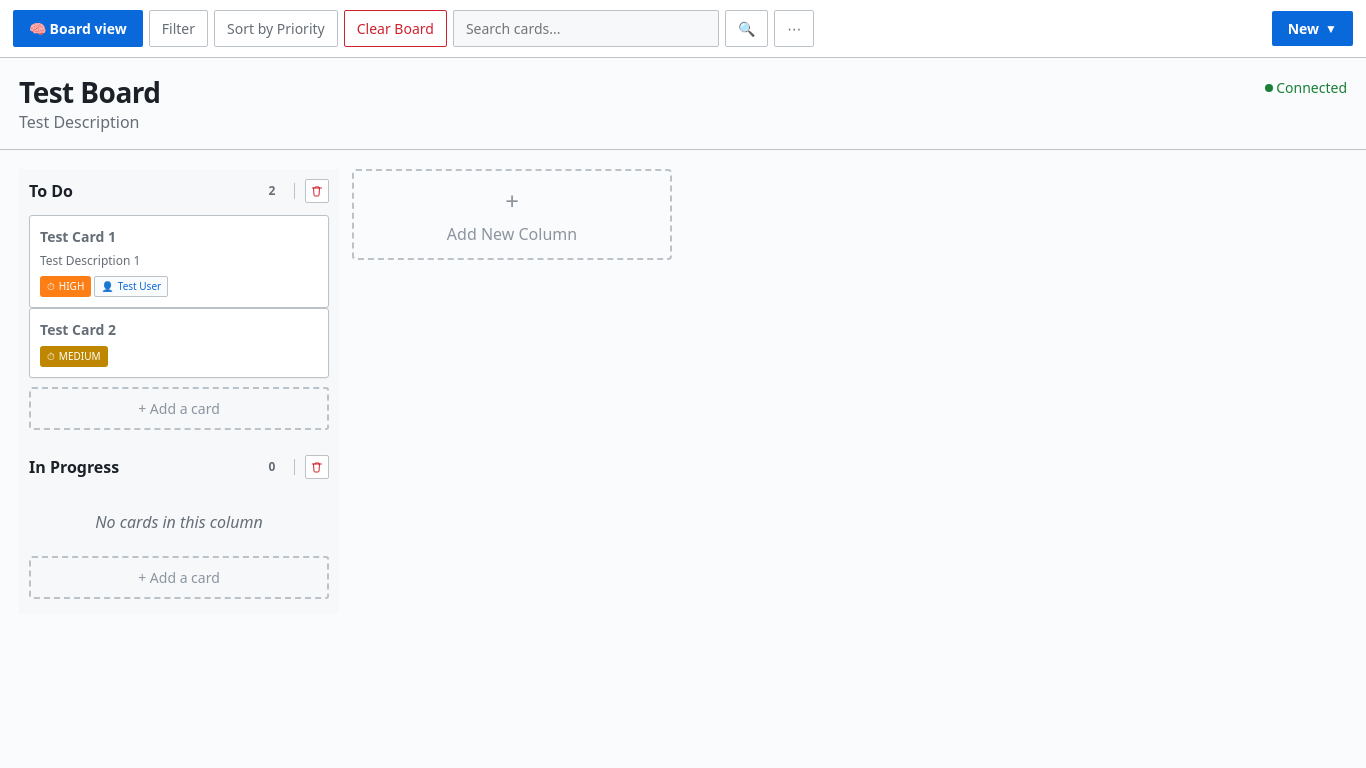
Test case: Board Component › Filtering and Sorting Integration › should filter cards by search query
The width and height of the screenshot is (1366, 768).
Expected: the heading "Test Board" is shown, [19,77,160,108]
// Search for "Test Card 1"
Type "Test Card 1" into the field with placeholder "Search cards..." at (586, 28), box [453,10,719,47]
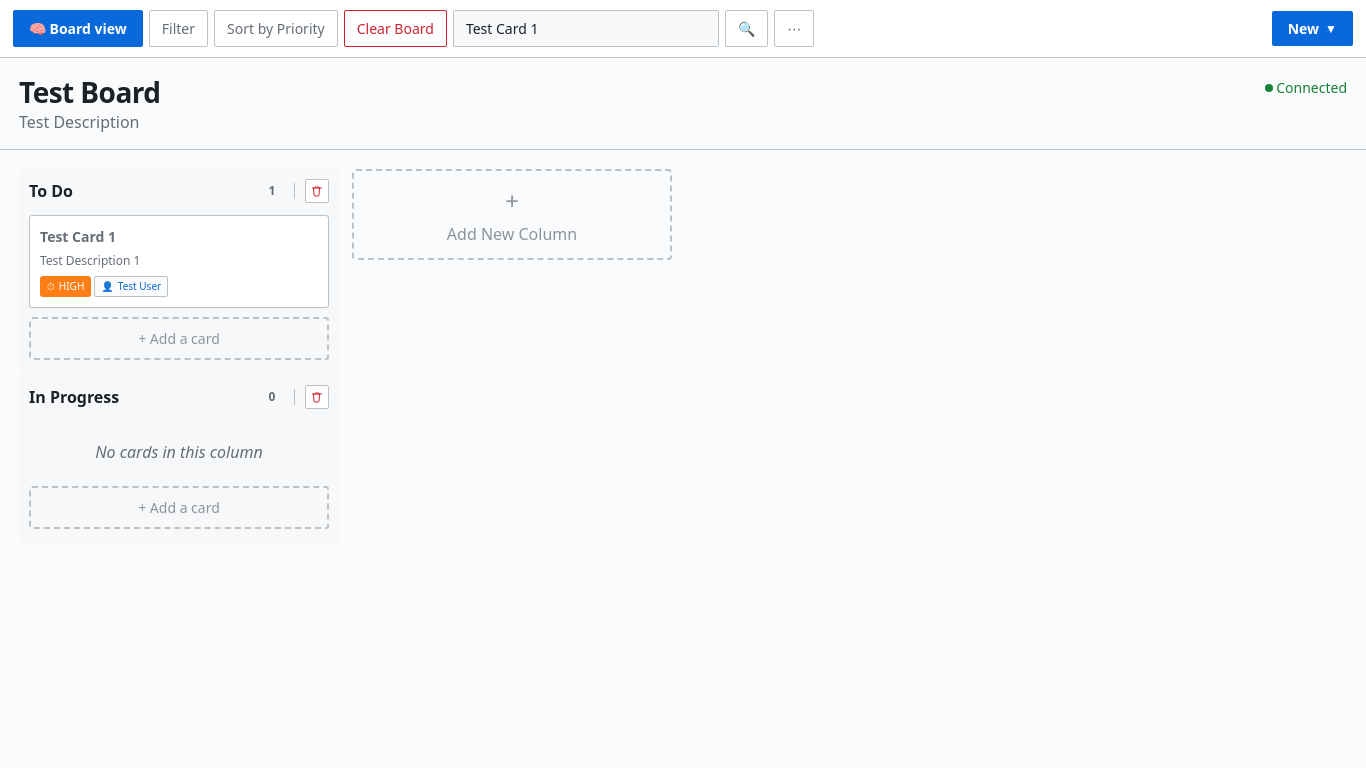
Expected: the heading "Test Card 1" is shown, [40,227,116,246]
Expected: the heading "Test Card 2" is gone
